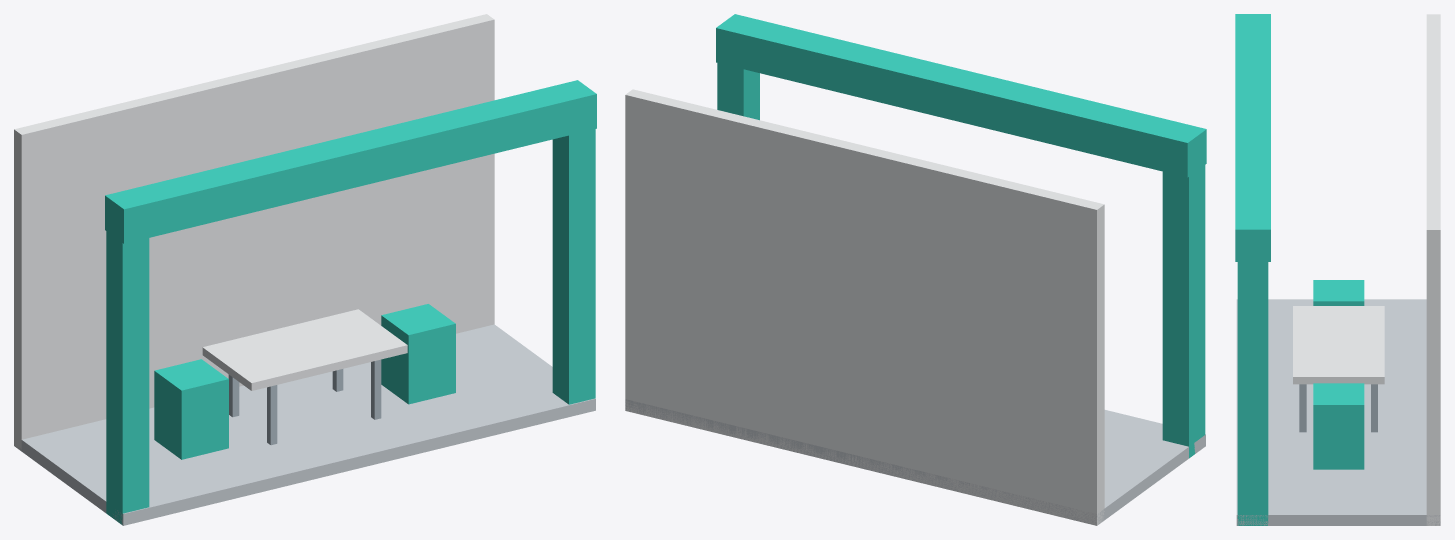
3 renders of one model, left to right at view 1: azimuth 30°, elevation 25°; view 2: azimuth 150°, elevation 25°; view 3: azimuth 270°, elevation 25°, orthographic. The views are drawn at different scales.
Visible parts, largest first — view 1: Exhibition Booth Concept; view 2: Exhibition Booth Concept; view 3: Exhibition Booth Concept.
Boxes of the visible parts, box(x1,y1,x2,y2) form: Exhibition Booth Concept: box(14, 14, 596, 525); Exhibition Booth Concept: box(625, 14, 1206, 525); Exhibition Booth Concept: box(1235, 14, 1440, 525).
Size of the model in its own units: 5 by 3.2 by 2.01.
